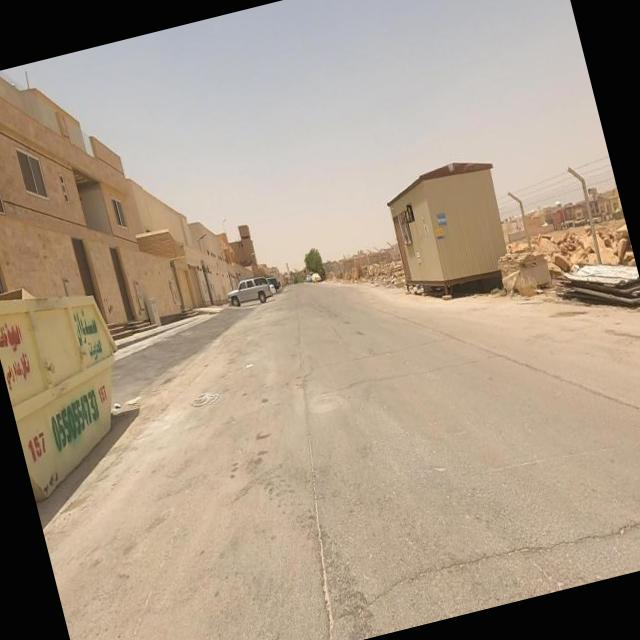debris: (489, 183, 640, 383), (454, 198, 574, 338)
